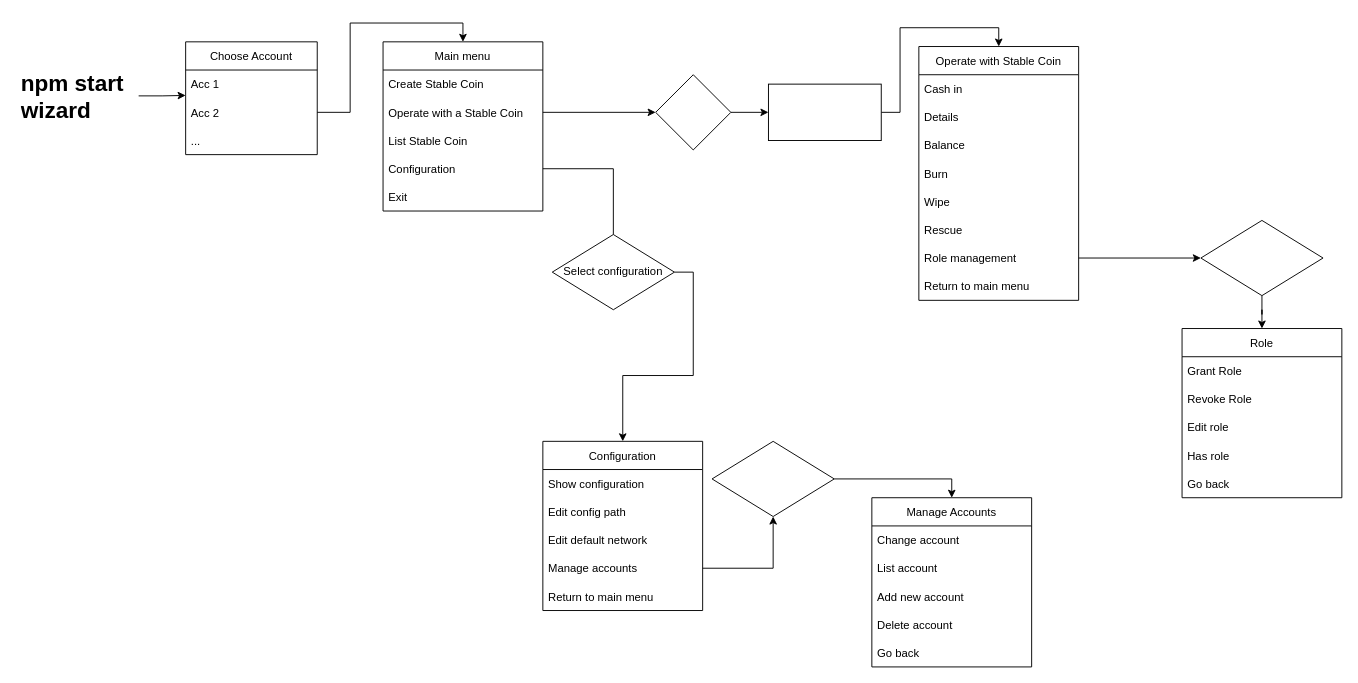
Some shapes in this 1358 by 683 pixel diagram are drawn without their labels. The centre of each missing label's shape, as x and y in pixels:
"Choose Stable Coin" goes at pixel 824 112.
"Select manage accounts" goes at pixel 772 478.
"Select operate" goes at pixel 693 112.
"Select role managemente" goes at pixel 1261 257.
